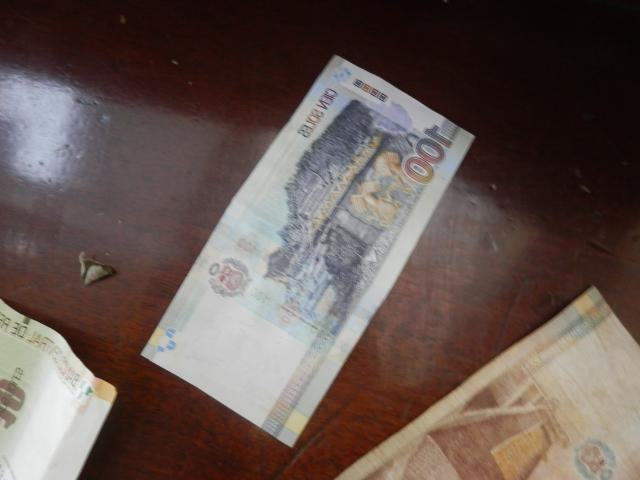B100: (138, 55, 475, 448)
